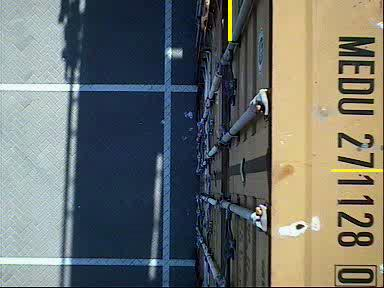groundmarker_2: (123, 142, 172, 231)
